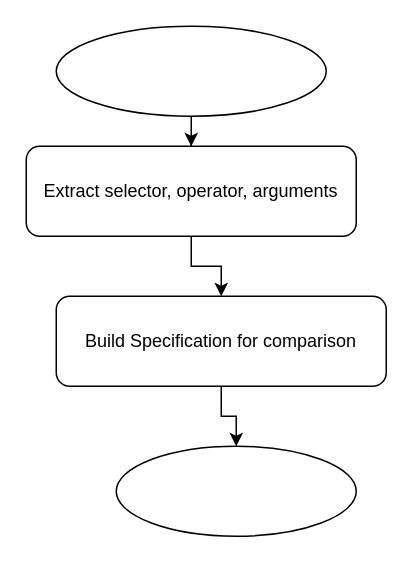
The diagram is 413 pixels wide and 563 high, and some of its shapes have lost their labels. Each missing label, with the centre of its shape:
"Return specification" goes at point (235, 490).
"visit(ComparisonNode) called" goes at point (190, 70).
